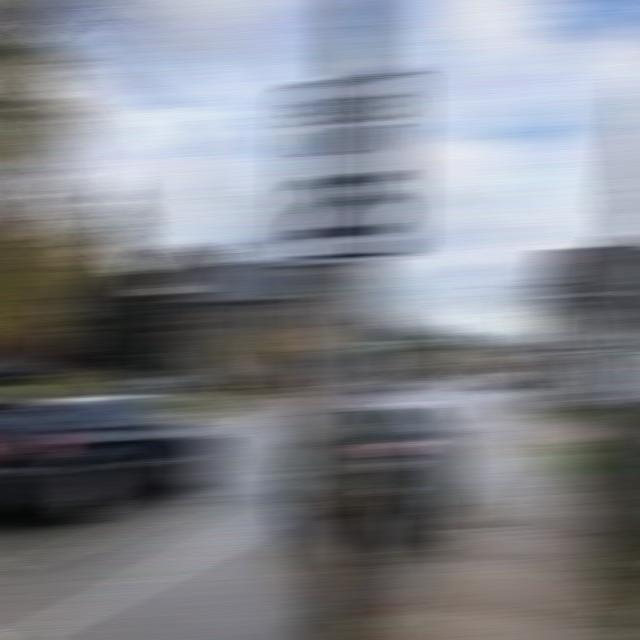speedLimit25: (283, 82, 414, 258)
